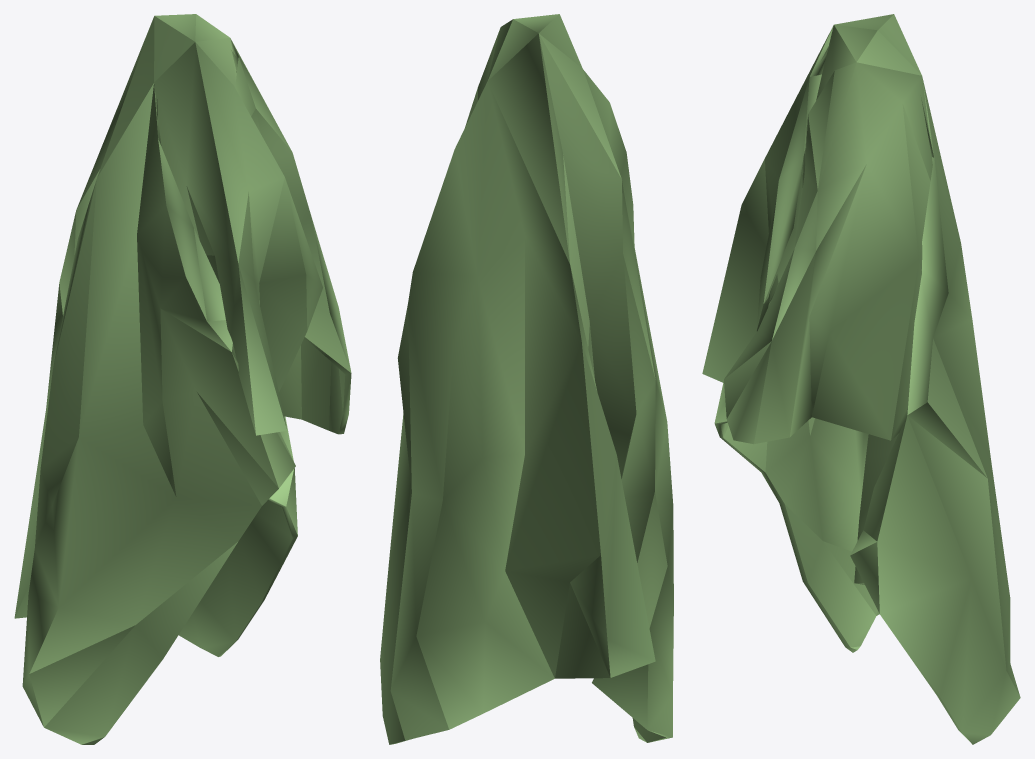
The model's file is Cloth01.fbx.
The picture shows the model from 3 angles, left to right: view 1: azimuth 30°, elevation 25°; view 2: azimuth 150°, elevation 25°; view 3: azimuth 270°, elevation 25°; orthographic projection. The views are drawn at different scales.
Parts seen in each view (by area): view 1: Cloth; view 2: Cloth; view 3: Cloth.
Boxes of the visible parts, x1,y1,x2,y2 form: Cloth: (14, 14, 351, 744); Cloth: (380, 14, 673, 744); Cloth: (702, 14, 1020, 744).
Size of the model in its own units: 58.46 by 147 by 62.24.
